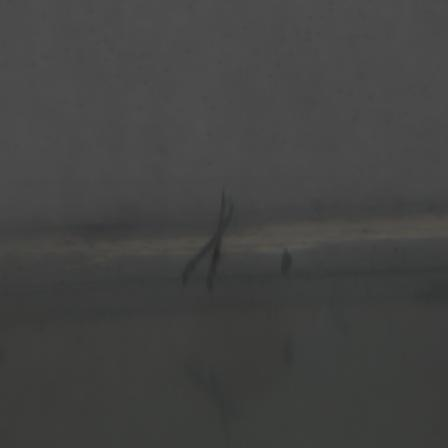Jentik-Nyamuk: (178, 188, 239, 291)
